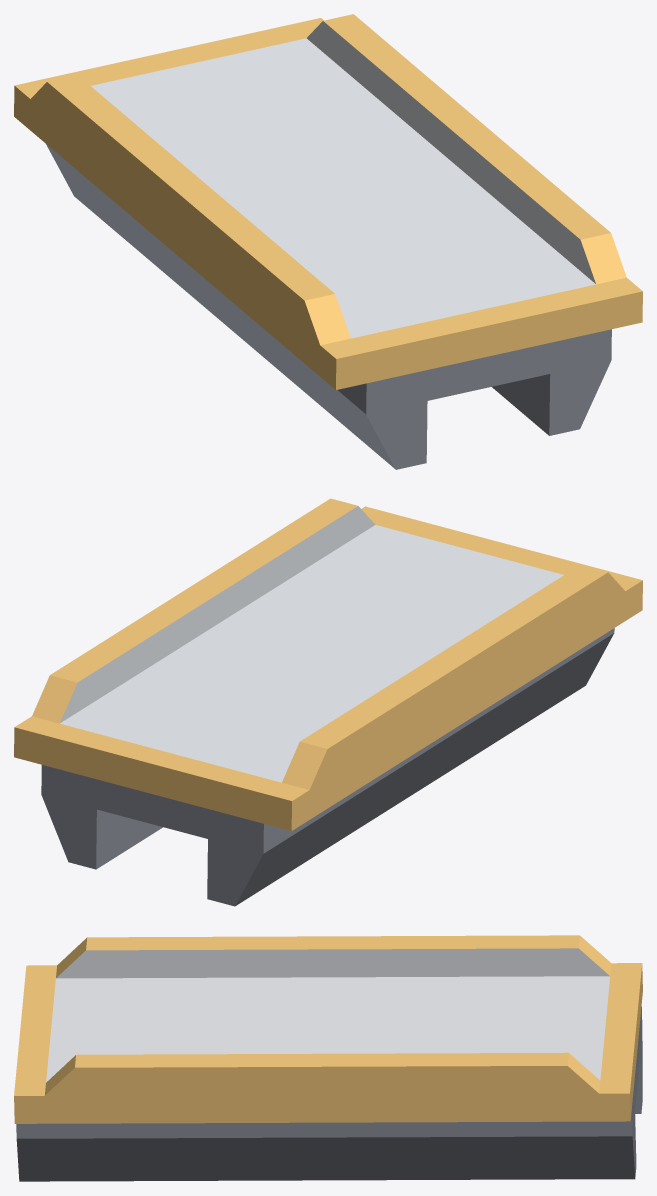
The model's file is monorail5.glb.
3 renders of one model, top to bottom at view 1: azimuth 30°, elevation 25°; view 2: azimuth 150°, elevation 25°; view 3: azimuth 270°, elevation 25°, orthographic. The views are drawn at different scales.
Parts seen in each view (by area): view 1: monorail_trainFlat.001; view 2: monorail_trainFlat.001; view 3: monorail_trainFlat.001.
Boxes of the visible parts, x1,y1,x2,y2 form: monorail_trainFlat.001: (14,14,642,469); monorail_trainFlat.001: (14,498,642,906); monorail_trainFlat.001: (14,935,642,1181).
Bounding box in the file's own units: 2.7 × 1.36 × 5.1.
